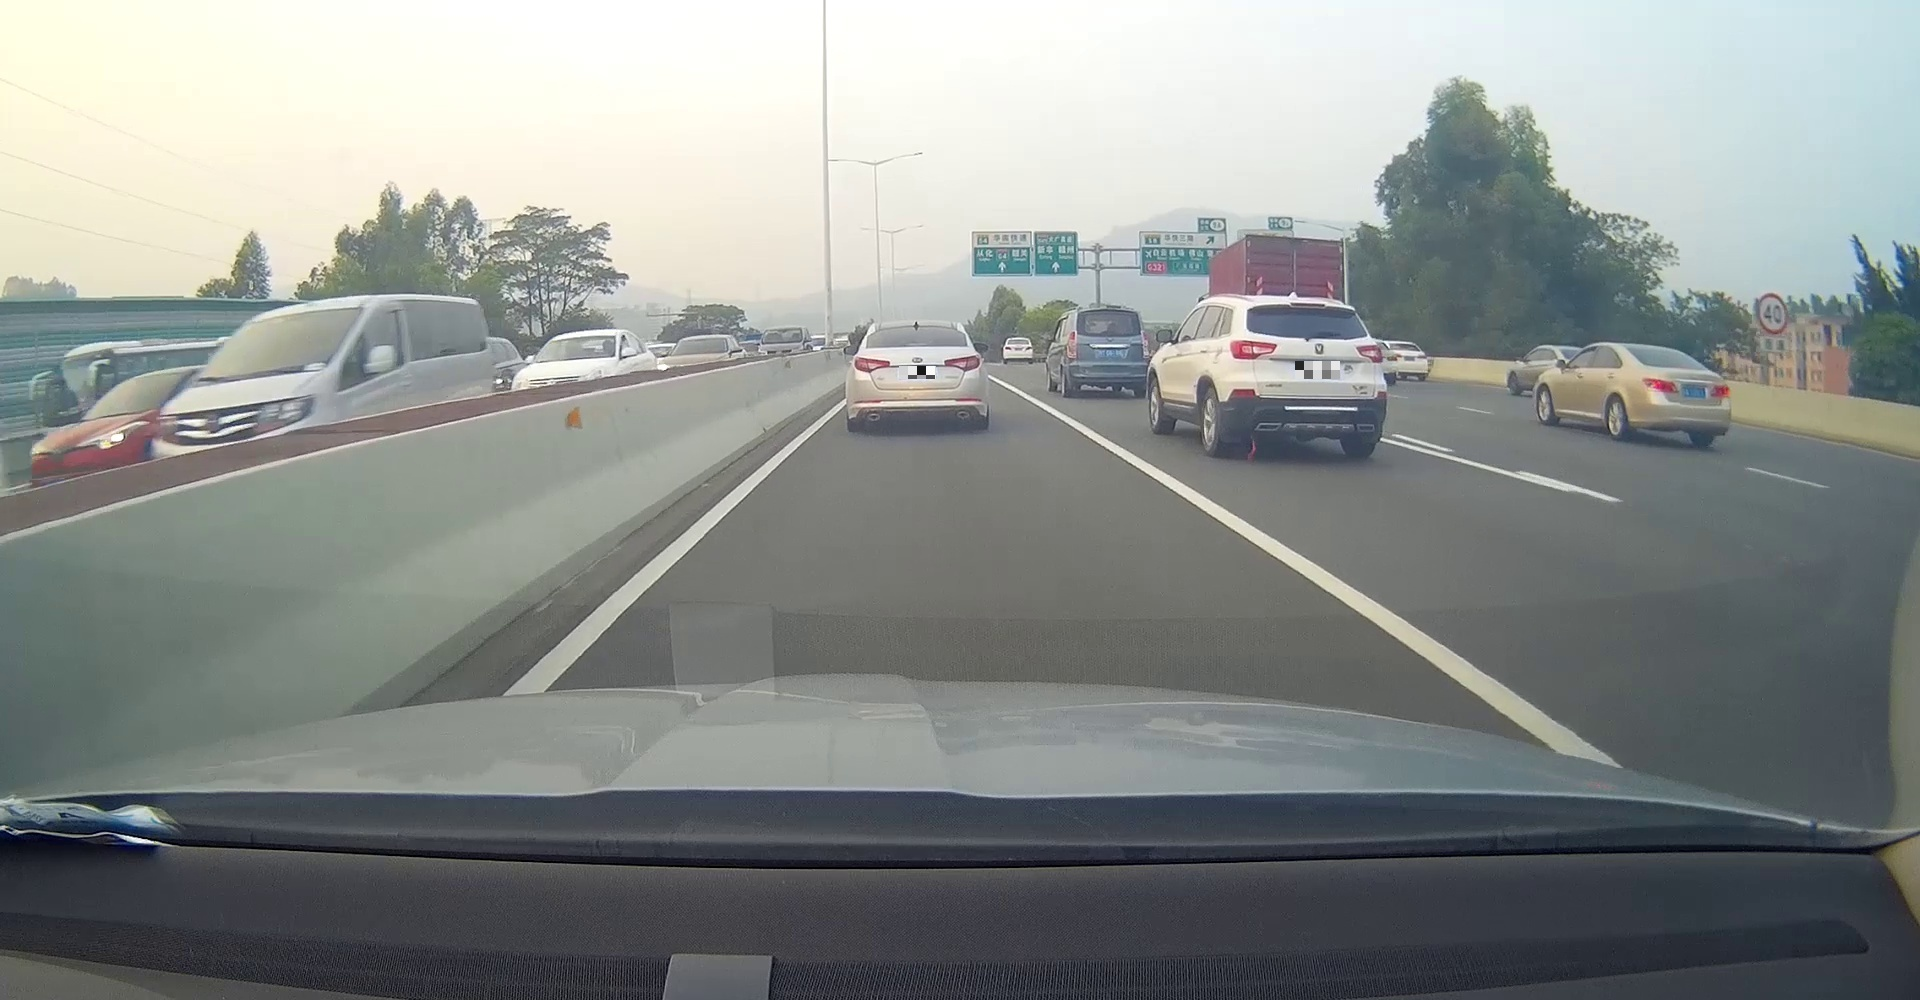L_light: (1229, 340, 1277, 359), (852, 357, 890, 373), (1643, 378, 1677, 393), (1067, 330, 1077, 358)
R_light: (943, 354, 982, 372), (1356, 344, 1383, 363), (1710, 385, 1730, 396), (1142, 330, 1149, 358)
T_light: (1290, 303, 1324, 308), (905, 341, 930, 346), (1102, 331, 1123, 336), (1674, 364, 1690, 368)
day-no: (1227, 294, 1389, 459), (844, 319, 990, 431), (1064, 305, 1150, 398)
day-right: (1619, 341, 1731, 447)
plate_1: (899, 365, 936, 379)
plate_2: (1295, 360, 1340, 379)
